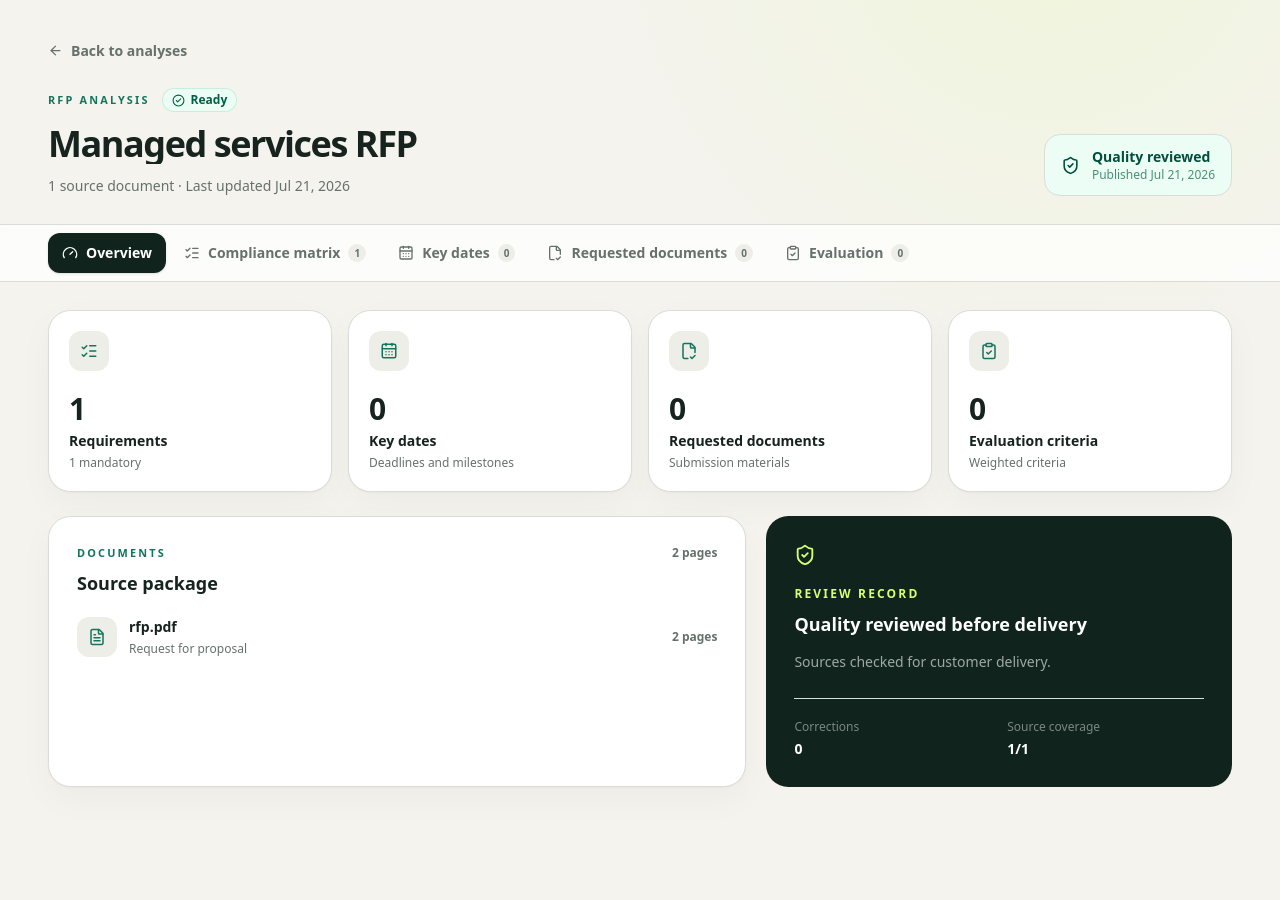
Scenario: AnalysisDetail › shows a published F2 result with reviewed requirements and exact page citations
The image size is (1280, 900).
Check: the text "Quality reviewed" is shown, box [1092, 147, 1215, 167]
Click the button with aria-label "Compliance matrix (1)". click: (275, 253)
box: [170, 233, 380, 273]
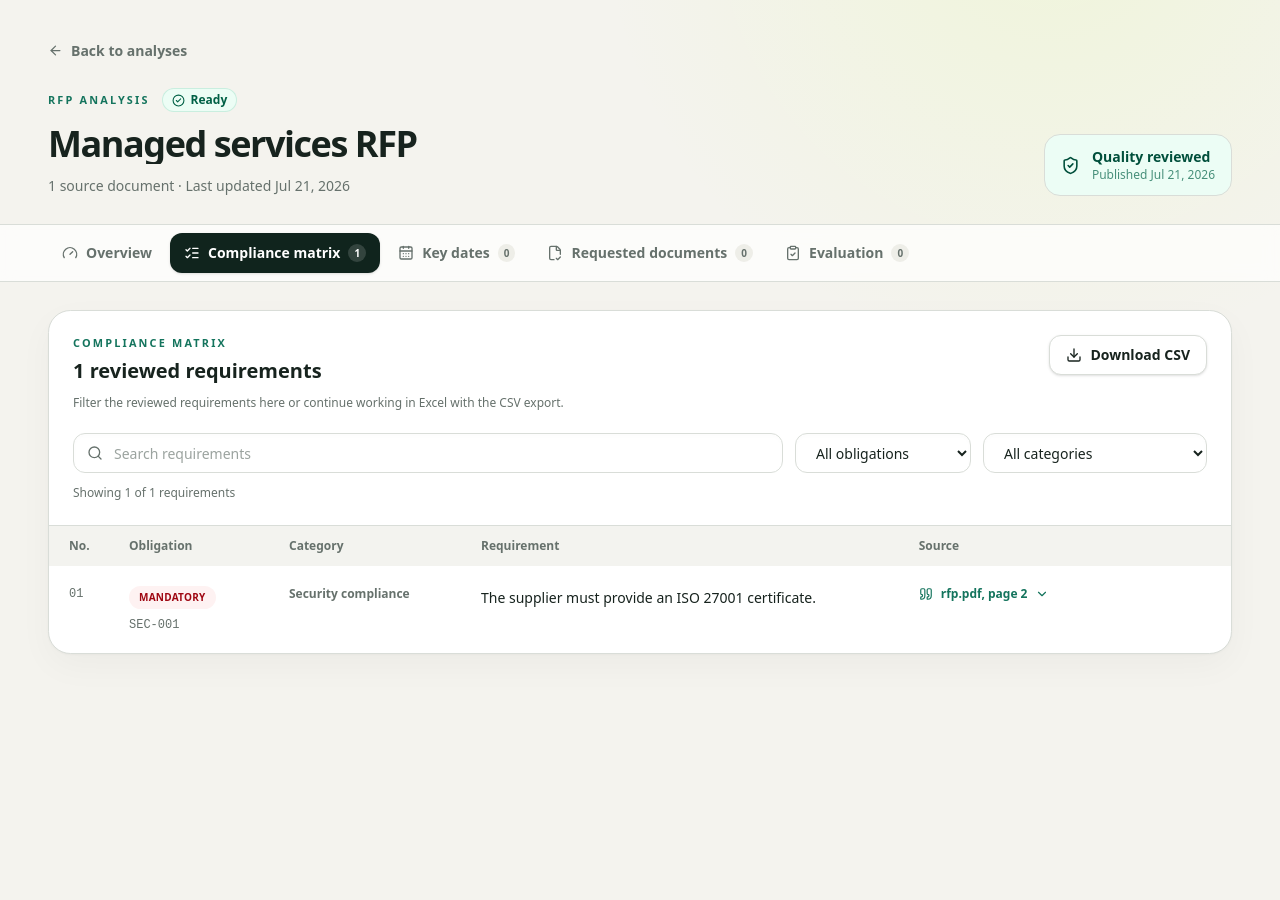
Check: the heading "1 reviewed requirements" is shown, box [73, 357, 322, 384]
Check: the button "Download CSV" is shown, box [1049, 335, 1207, 375]
Check: the text "The supplier must provide an ISO 27001 certificate." is shown 2 times
